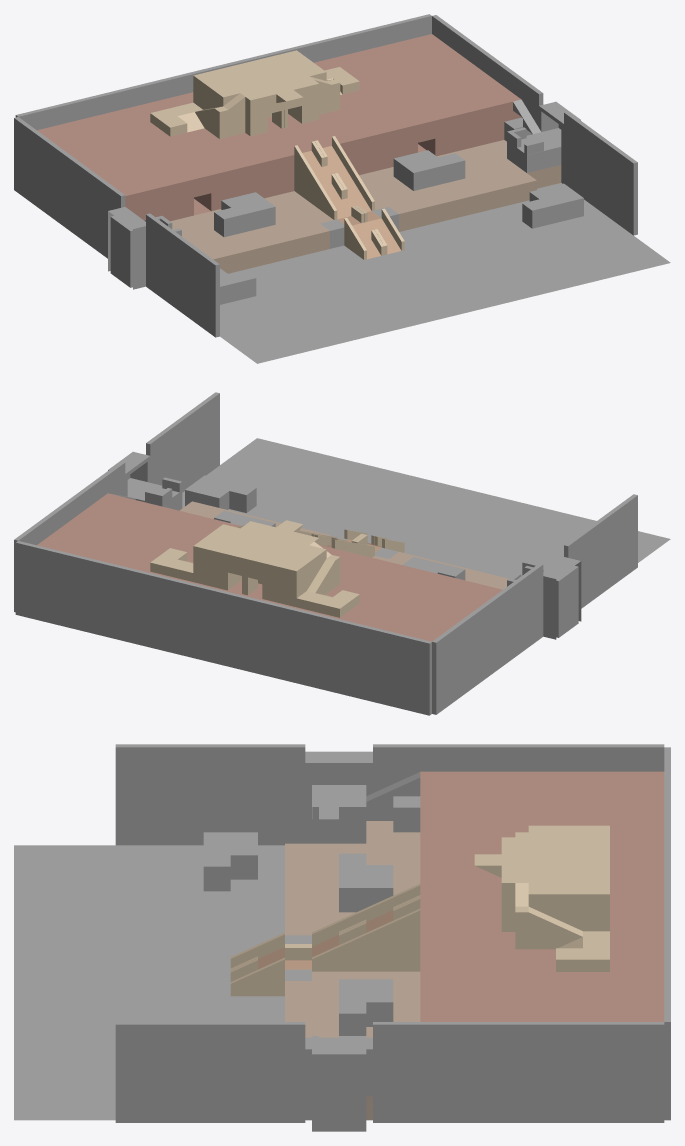
Rendered from Temple.fbx.
The picture shows the model from 3 angles, top to bottom: view 1: azimuth 30°, elevation 25°; view 2: azimuth 150°, elevation 25°; view 3: azimuth 270°, elevation 25°; orthographic projection. The views are drawn at different scales.
Parts seen in each view (by area): view 1: pCube1473; view 2: pCube1473; view 3: pCube1473.
Part boxes in pixels (x1=…): pCube1473: x1=14, y1=14, x2=670, y2=363; pCube1473: x1=14, y1=392, x2=670, y2=715; pCube1473: x1=14, y1=744, x2=670, y2=1131.
Bounding box in the file's own units: 25.99 × 5 × 24.25.
